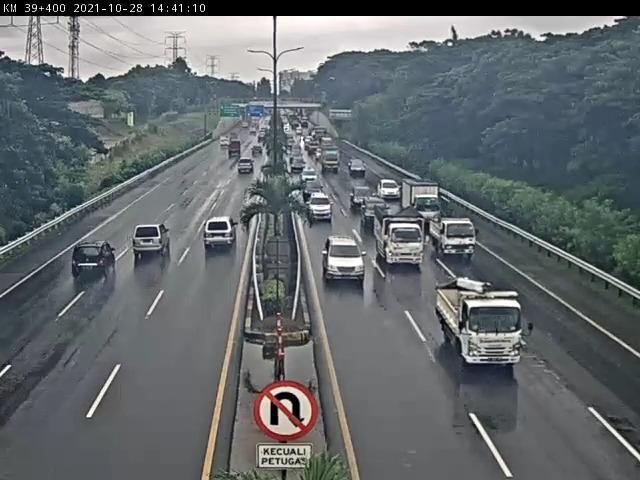car: (321, 236, 366, 284), (361, 196, 389, 226), (307, 193, 333, 222), (379, 180, 404, 203), (352, 187, 375, 212)
truck: (435, 279, 525, 369), (373, 206, 426, 268), (430, 218, 478, 261), (71, 240, 117, 279), (402, 179, 442, 221), (131, 223, 172, 257), (205, 217, 238, 251)
